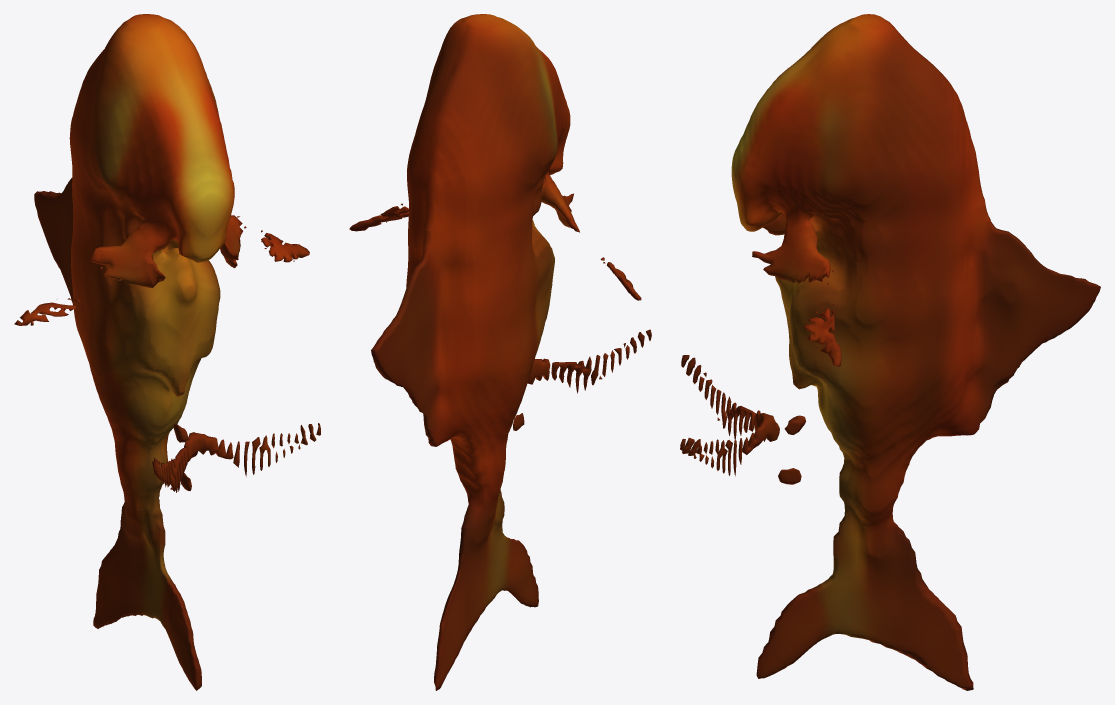
The picture shows the model from 3 angles, left to right: view 1: azimuth 30°, elevation 25°; view 2: azimuth 150°, elevation 25°; view 3: azimuth 270°, elevation 25°; orthographic projection. The views are drawn at different scales.
Visible parts, largest first — view 1: plyFile; view 2: plyFile; view 3: plyFile.
Part boxes in pixels (<box>): plyFile: <box>14,14,320,690</box>; plyFile: <box>349,14,651,690</box>; plyFile: <box>680,14,1100,690</box>.
Size of the model in its own units: 95.18 by 198 by 112.
